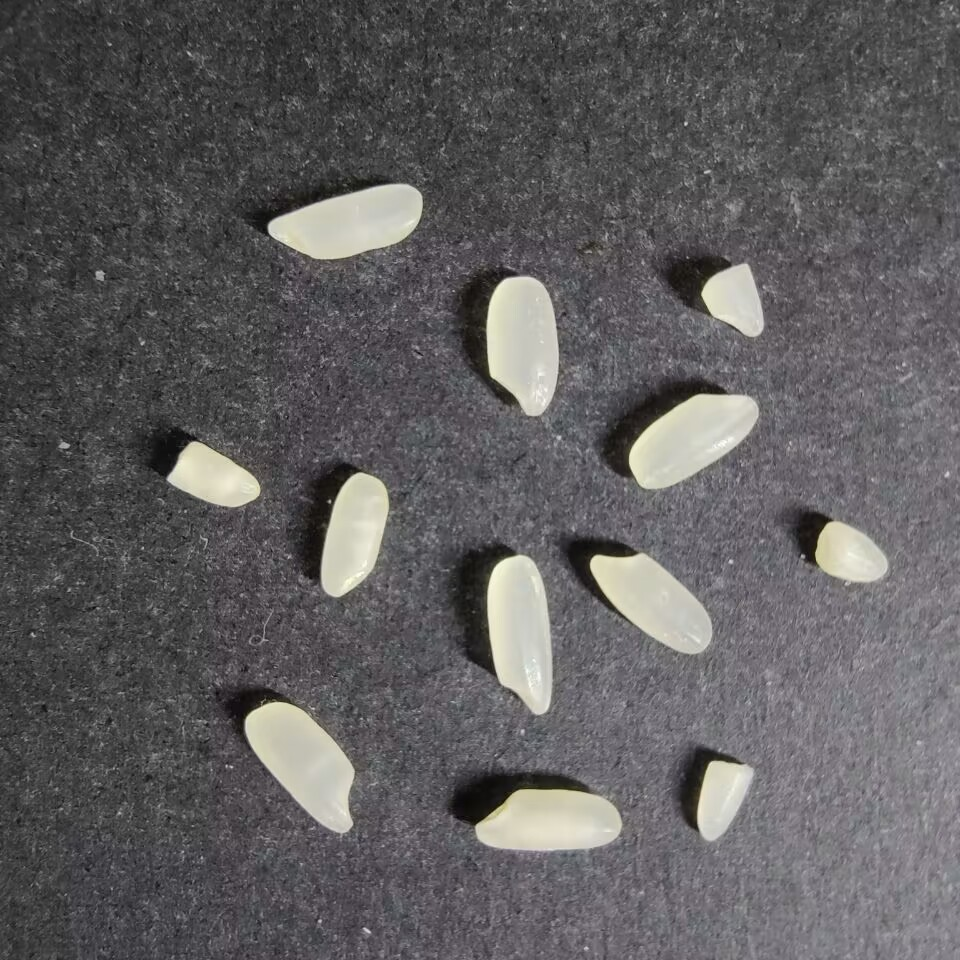broken: (165, 440, 261, 508), (700, 263, 765, 337), (696, 760, 754, 841), (814, 521, 889, 582)
rice: (243, 701, 356, 834), (627, 393, 759, 490), (589, 552, 713, 654), (266, 182, 423, 260), (486, 555, 553, 716), (485, 275, 559, 417), (474, 788, 621, 852), (319, 472, 388, 597)
